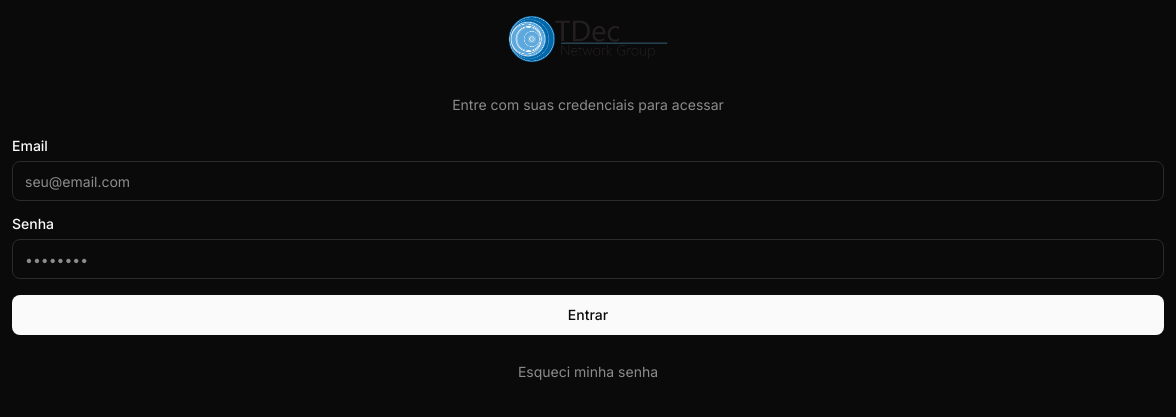
Test case: LoginPage › Form Validation › should show error for empty email
The width and height of the screenshot is (1176, 417).
Fill password but leave email empty
Type "password123" into the password field labelled "Senha" at (588, 259), box [12,239,1164,279]
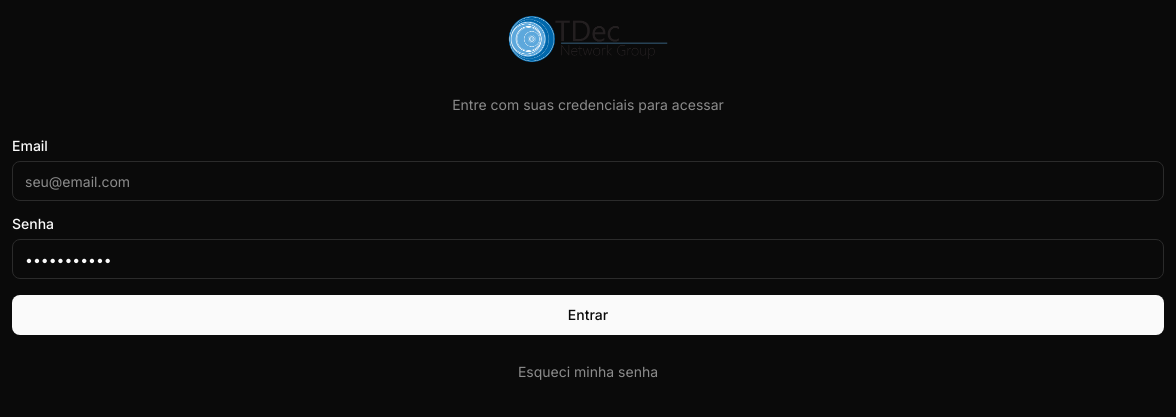
Click the button "Entrar" at (588, 315), box [12,295,1164,335]
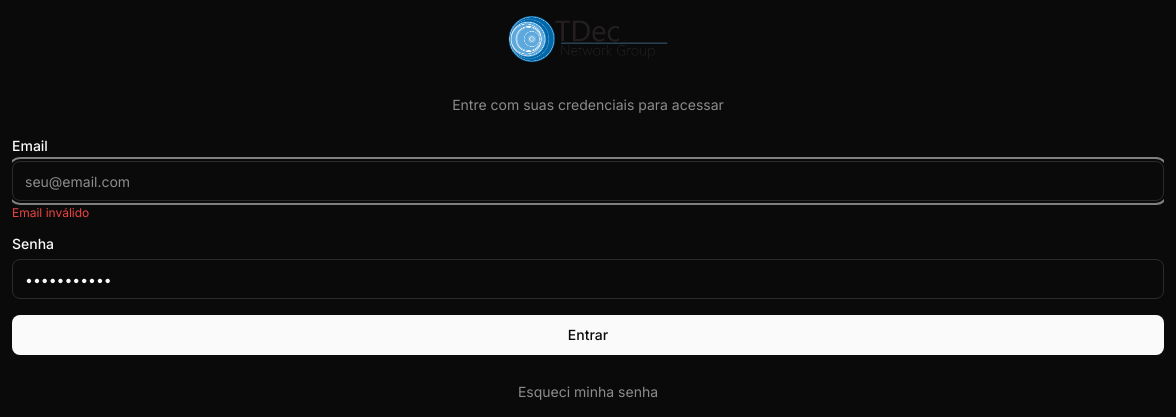
Now the text "Email inválido" is shown, box [12,205,89,220]
